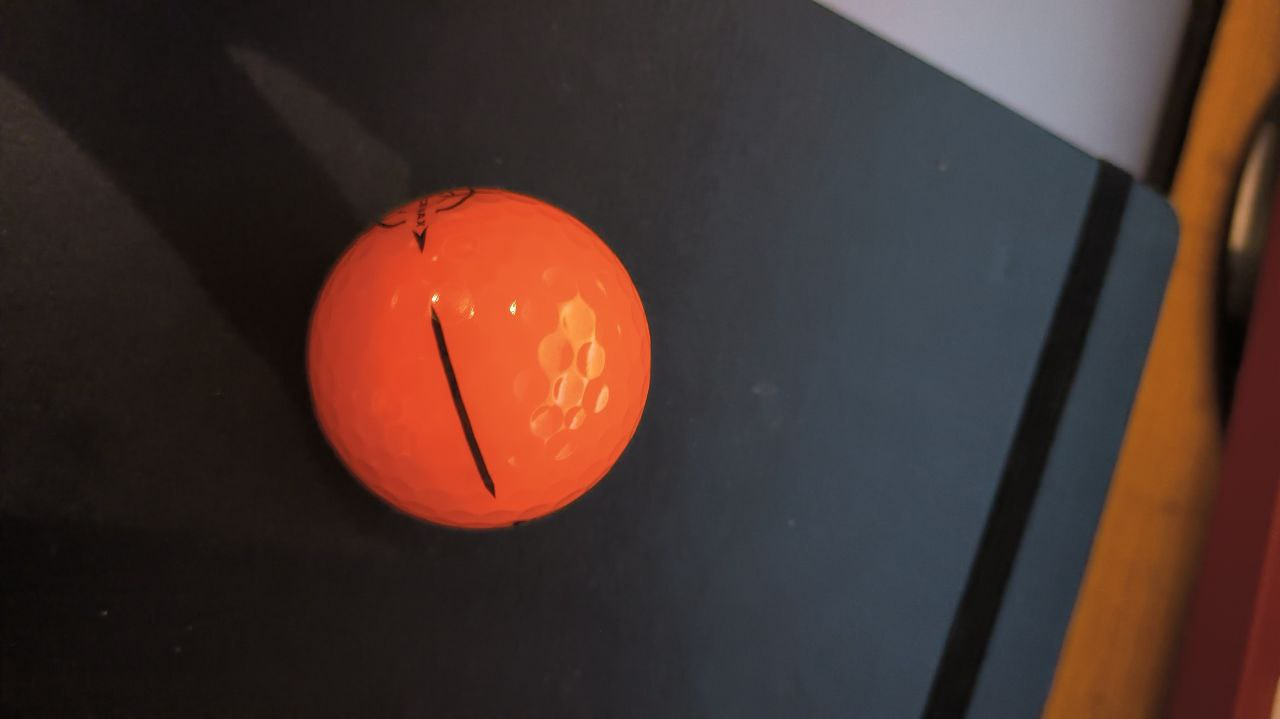orange_ball: (307, 190, 651, 530)
